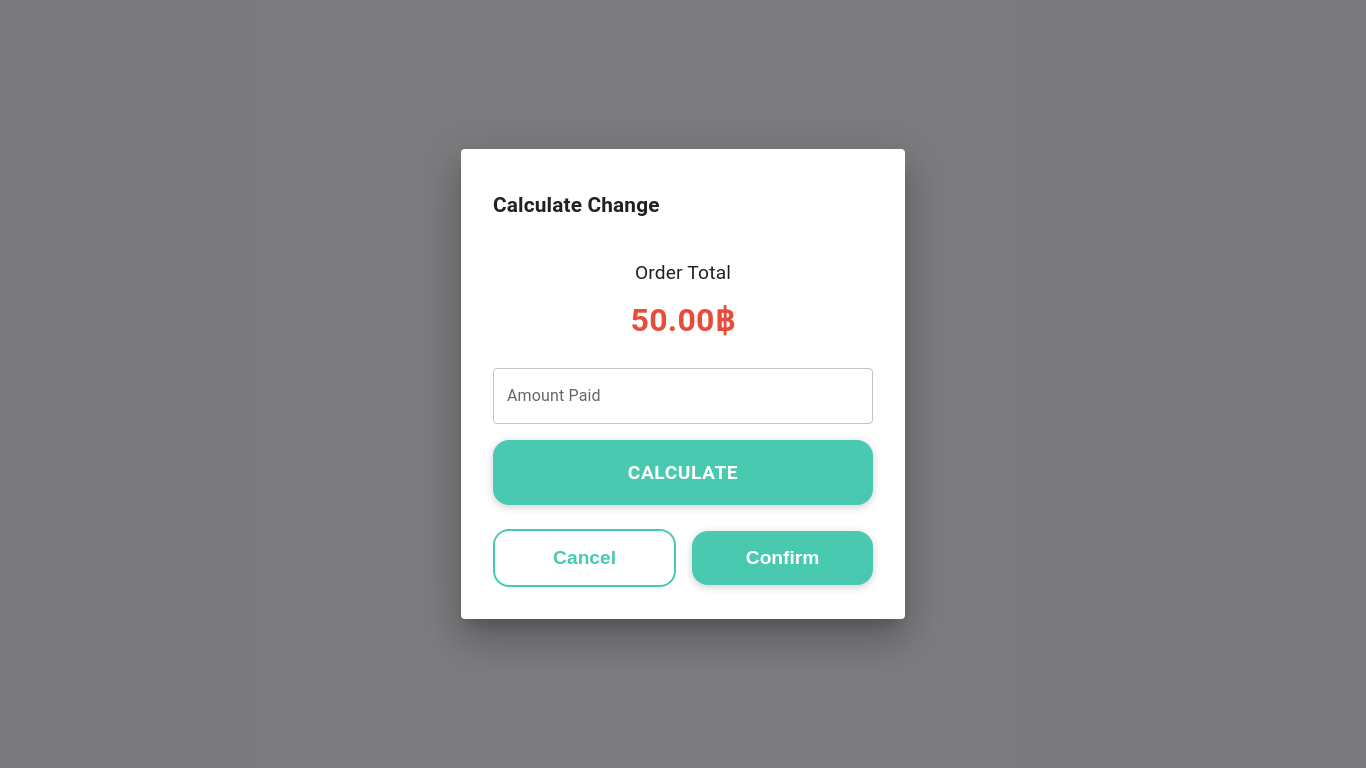
Test: CalculateChange Acceptance Criteria Tests › Criteria 2: Clear display of calculated change › displays change section after calculation
The image size is (1366, 768).
Type "100" into the number field labelled "Amount Paid" at (683,396), box [493,368,873,424]
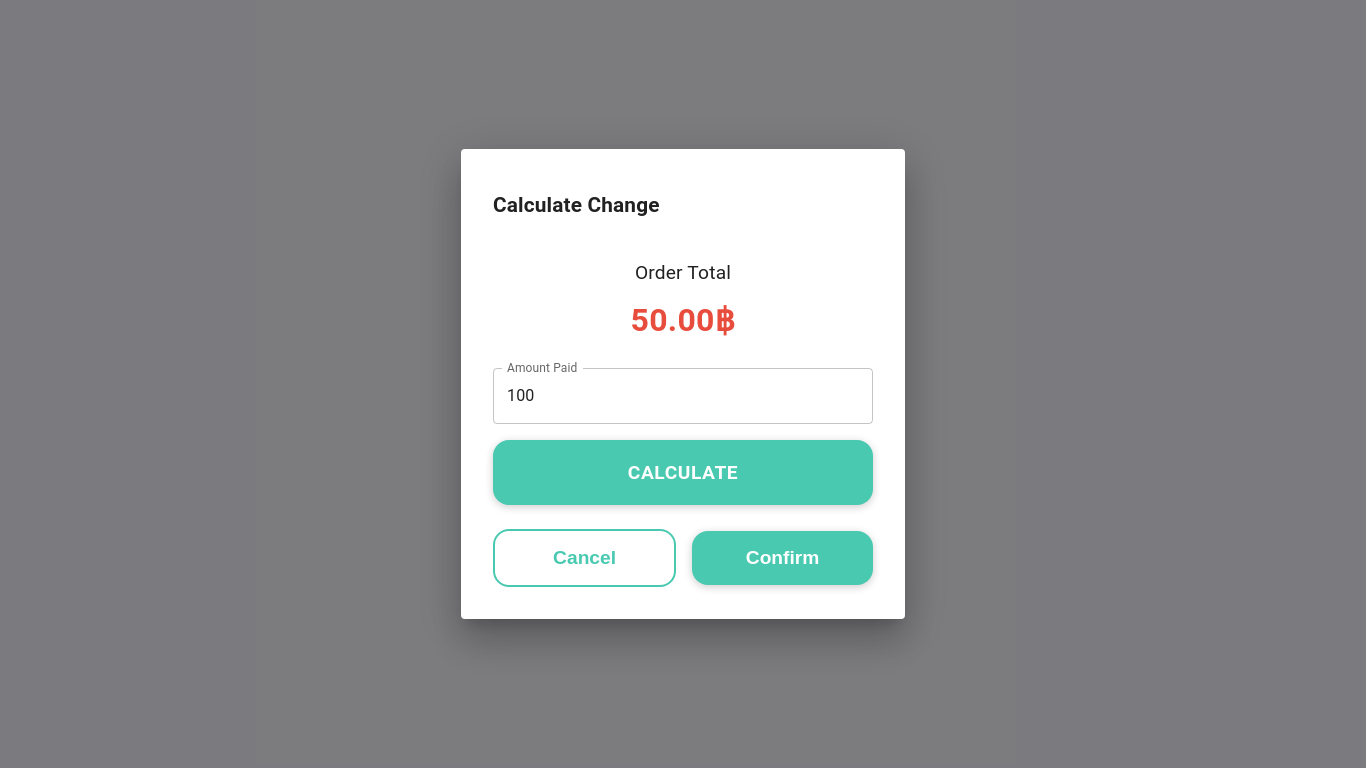
Click the button "Calculate" at (683,472), box [493,440,873,505]
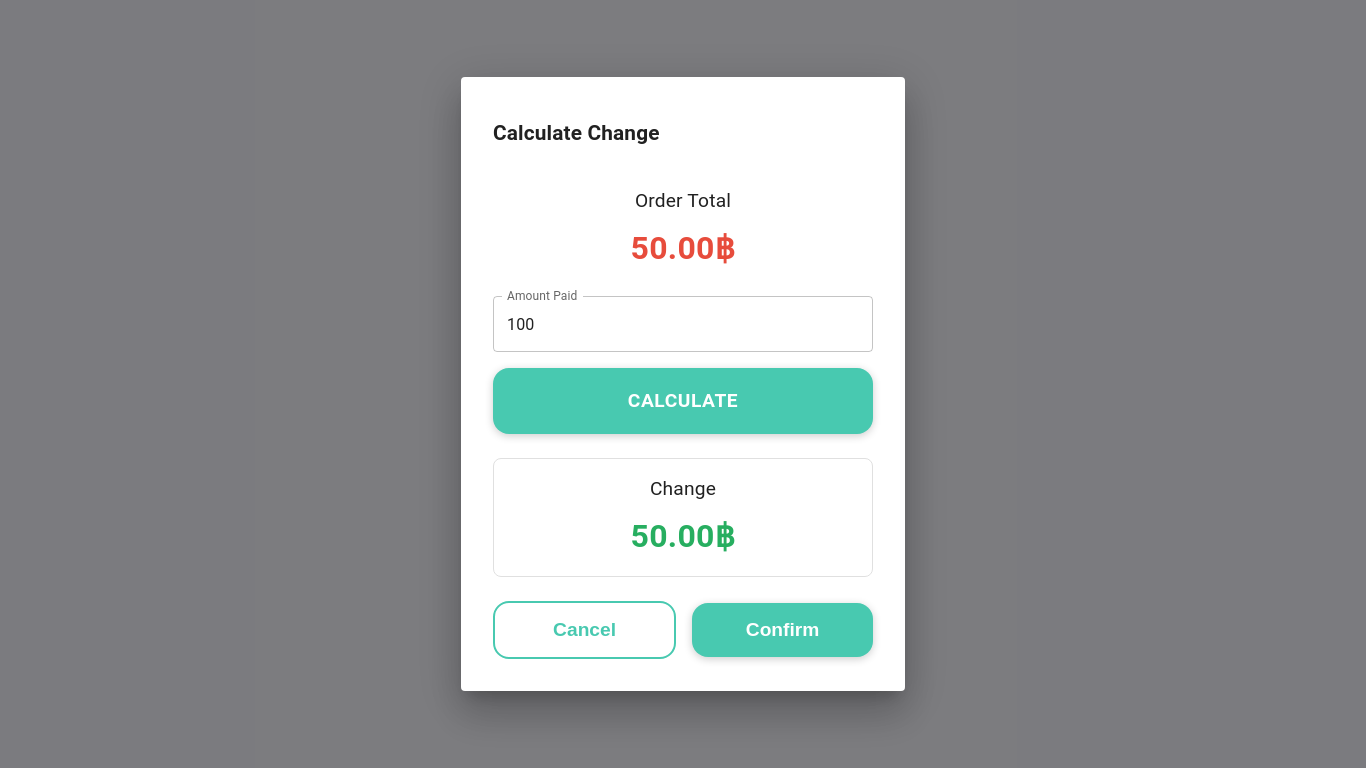
Expected: the text "Change" is shown, [650,477,716,500]
Expected: the 2nd text "50.00฿" is shown, [630,517,735,555]
